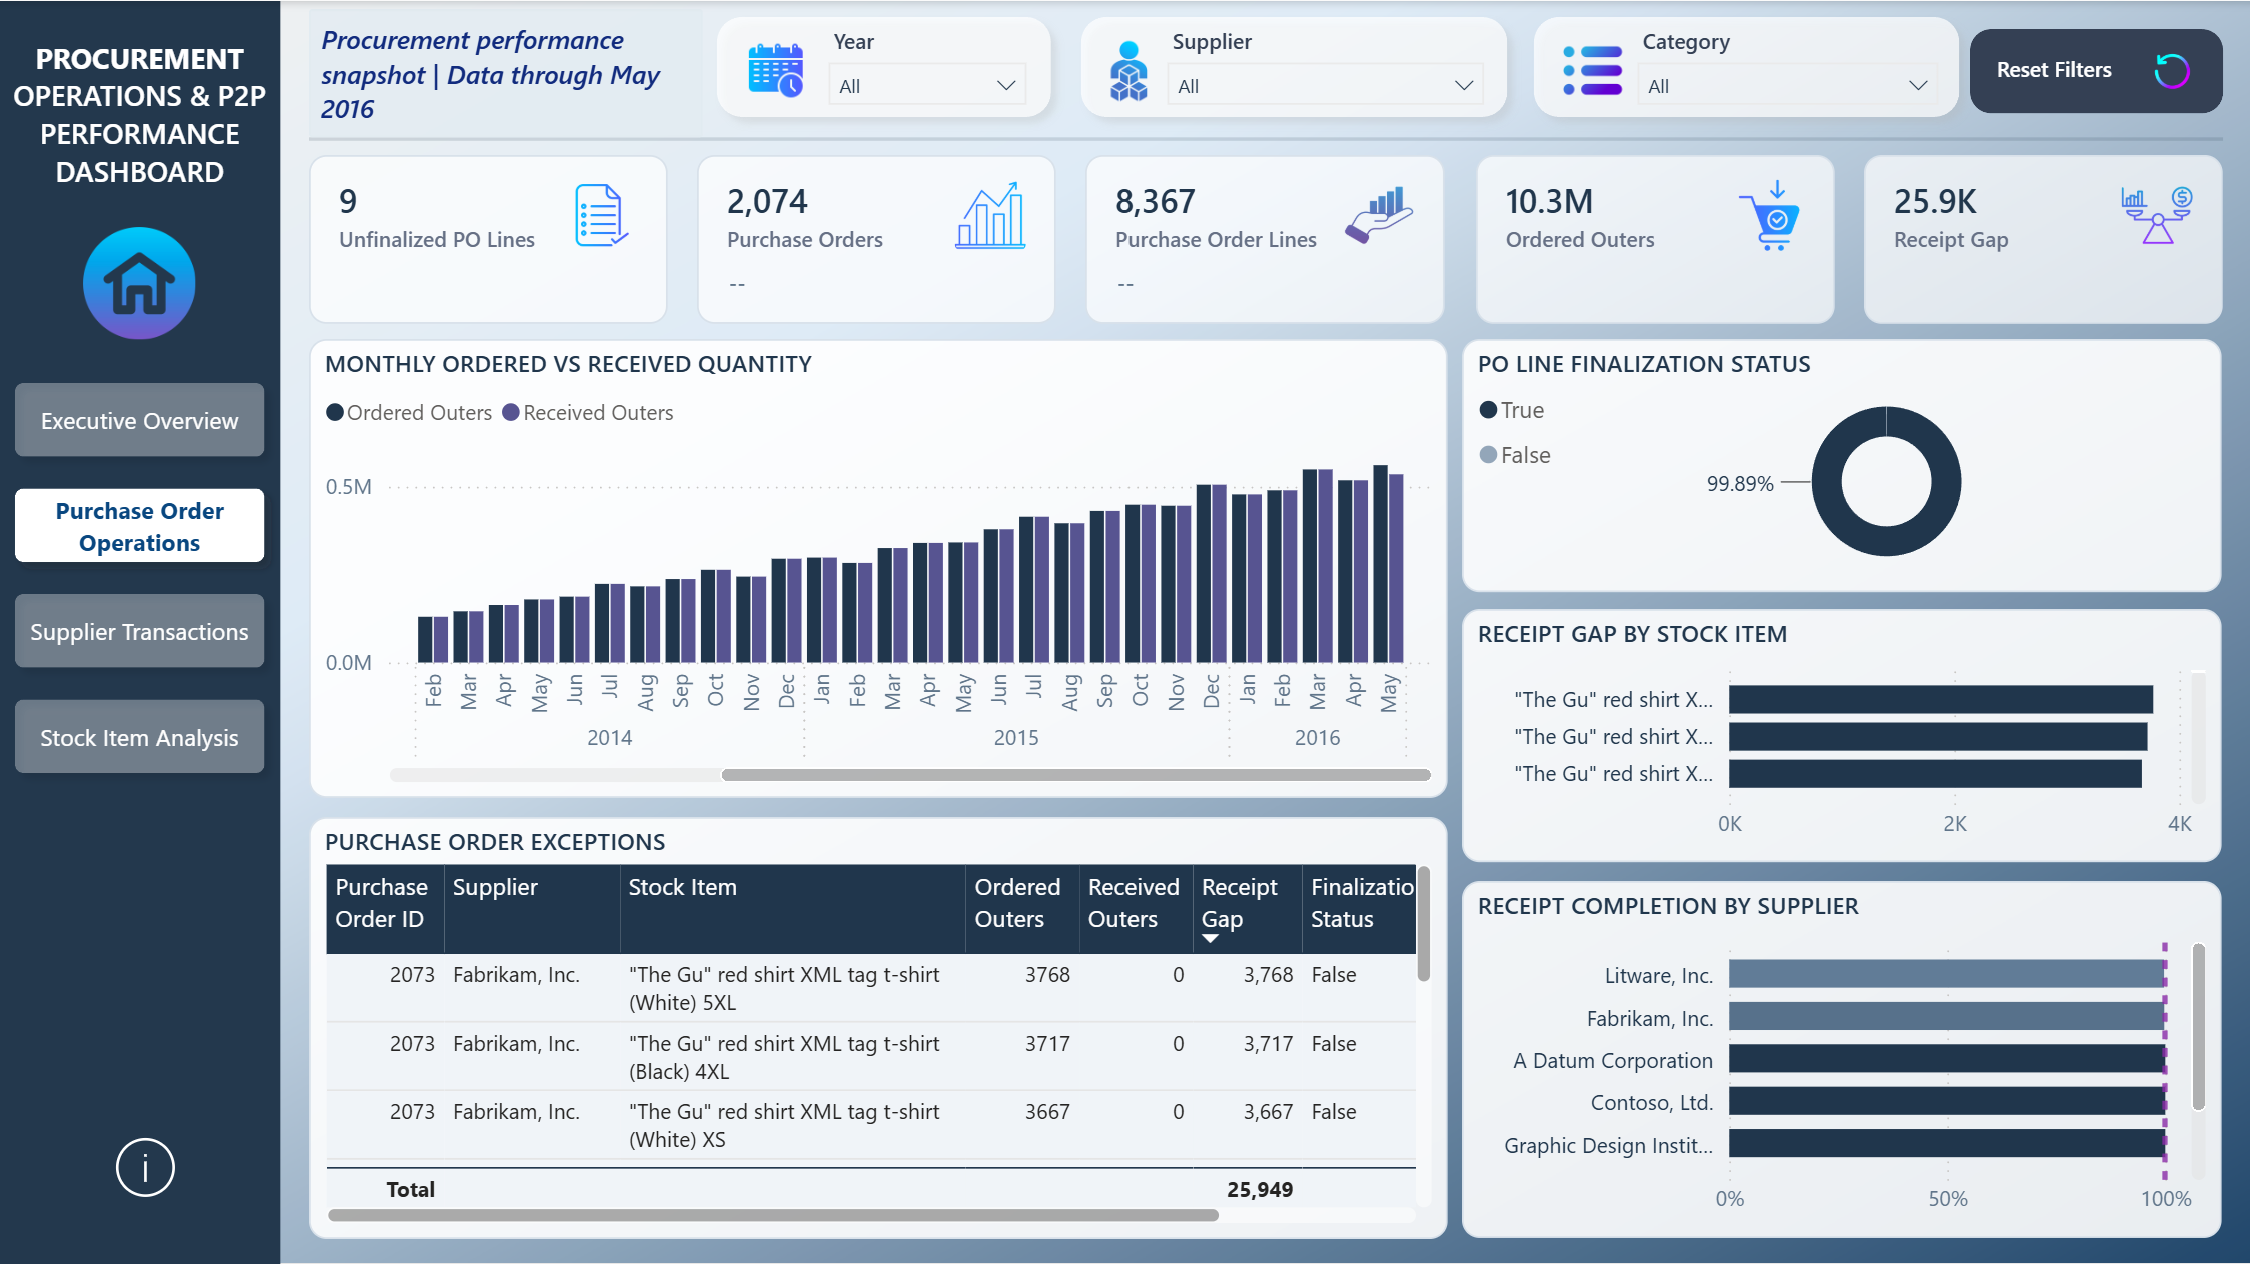

What the dashboard file says about the page in this screenshot:
{"tool":"powerbi","page":{"name":"Purchase Order Operations","canvas":[1280,720],"ordinal":1},"visuals":[{"type":"shape","box":[0,0,160,720],"z":0},{"type":"shape","box":[399.7,0,208,75],"z":0,"group":"g3"},{"type":"shape","box":[605.7,0,260,75],"z":0,"group":"g1"},{"type":"shape","box":[863.7,0,260,75],"z":0,"group":"g2"},{"type":"shape","box":[1120,16,144,48],"z":0,"group":"g5"},{"type":"slicer","title":"Year","fields":{"Values":["DimDate.Calendar Year"]},"box":[461.7,25,132.4,40],"z":1000,"group":"g3"},{"type":"slicer","title":"Year","fields":{"Values":["DimSupplier.Supplier"]},"box":[653.7,25,200,40],"z":1000,"group":"g1"},{"type":"slicer","title":"Year","fields":{"Values":["DimSupplier.Category"]},"box":[921.7,25,191,48],"z":1000,"group":"g2"},{"type":"cardVisual","fields":{"Data":["__Measures.Unfinalized PO Line Count"]},"box":[176,88,204,96],"z":1000},{"type":"image","box":[888.7,4,35,70],"z":2000,"group":"g2"},{"type":"image","box":[424.7,5,35,70],"z":2000,"group":"g3"},{"type":"image","box":[623.7,5,35,70],"z":2000,"group":"g1"},{"type":"cardVisual","fields":{"Data":["__Measures.PO Line Count"]},"box":[618,88,204,96],"z":2000},{"type":"textbox","box":[470.7,8,56.7,32],"z":3000,"group":"g3"},{"type":"textbox","box":[661.7,8,72,32],"z":3000,"group":"g1"},{"type":"textbox","box":[930.2,8,85.5,32],"z":3000,"group":"g2"},{"type":"cardVisual","fields":{"Data":["__Measures.Ordered Outers"]},"box":[839,88,204,96],"z":3000},{"type":"cardVisual","fields":{"Data":["__Measures.Receipt Gap"]},"box":[1060,88,204,96],"z":4000},{"type":"pageNavigator","box":[0,208,160,240],"z":5000},{"type":"image","box":[48,128,64,64],"z":6000},{"type":"textbox","box":[0,16,160,112],"z":7000},{"type":"group","id":"g1","title":"Group 1","box":[605.7,0,260,75],"z":8000},{"type":"group","id":"g2","title":"Group 1","box":[863.7,0,260,75],"z":9000},{"type":"group","id":"g3","title":"Group 2","box":[399.7,0,208,75],"z":10000},{"type":"cardVisual","fields":{"Data":["__Measures.PO Count"]},"box":[397,88,204,96],"z":11000},{"type":"group","id":"g4","title":"Group 4","box":[1120,16,144,48],"z":12000},{"type":"shape","box":[176,71,1088,16],"z":13000},{"type":"actionButton","box":[60,640,46,46],"z":14000},{"type":"textbox","box":[176,5,224,73],"z":15000},{"type":"clusteredBarChart","title":"RECEIPT GAP BY STOCK ITEM","fields":{"Category":["DimStockItem.Stock Item"],"Y":["__Measures.Receipt Gap"]},"box":[832,346,432,144],"z":16000},{"type":"clusteredColumnChart","title":"MONTHLY ORDERED VS RECEIVED QUANTITY","fields":{"Y":["__Measures.Ordered Outers","__Measures.Received Outers"],"Category":["DimDate.Calendar Year","DimDate.Short Month"]},"box":[176,192,647,261],"z":17000},{"type":"group","id":"g5","title":"Group 3","box":[1120,16,144,48],"z":18000,"group":"g4"},{"type":"clusteredBarChart","title":"RECEIPT COMPLETION BY SUPPLIER","fields":{"Category":["DimSupplier.Supplier"],"Y":["__Measures.Receipt Completion %"]},"box":[832,500,432,203],"z":18000},{"type":"donutChart","title":"PO LINE FINALIZATION STATUS","fields":{"Category":["FactPurchase.Is Order Finalized"],"Y":["__Measures.PO Line Count"]},"box":[832,192,432,144],"z":19000},{"type":"image","box":[1225,25,21,30],"z":20000,"group":"g4"},{"type":"tableEx","title":"PURCHASE ORDER EXCEPTIONS","fields":{"Values":["FactPurchase.WWI Purchase Order ID","DimSupplier.Supplier","DimStockItem.Stock Item","FactPurchase.Ordered Outers","FactPurchase.Received Outers","__Measures.Receipt Gap","FactPurchase.Is Order Finalized","FactPurchase.Date Key"]},"box":[176,464,647,240],"z":20000},{"type":"textbox","box":[1120,24,96,32],"z":21000,"group":"g5"}]}

Visuals, with their boxes in screenshot pixels (x1, y1, x2, y2), scaled from the page's 1280x720 canvas onto the 2250x1264 screenshot:
shape: (0,0,281,1263)
shape: (703,0,1068,132)
shape: (1065,0,1522,132)
shape: (1518,0,1975,132)
shape: (1969,28,2222,112)
"Year" slicer: (812,44,1044,114)
"Year" slicer: (1149,44,1501,114)
"Year" slicer: (1620,44,1956,128)
cardVisual - __Measures.Unfinalized PO Line Count: (309,154,668,323)
image: (1562,7,1624,130)
image: (747,9,808,132)
image: (1096,9,1158,132)
cardVisual - __Measures.PO Line Count: (1086,154,1445,323)
textbox: (827,14,927,70)
textbox: (1163,14,1290,70)
textbox: (1635,14,1785,70)
cardVisual - __Measures.Ordered Outers: (1475,154,1833,323)
cardVisual - __Measures.Receipt Gap: (1863,154,2222,323)
pageNavigator: (0,365,281,786)
image: (84,225,197,337)
textbox: (0,28,281,225)
"Group 1" group: (1065,0,1522,132)
"Group 1" group: (1518,0,1975,132)
"Group 2" group: (703,0,1068,132)
cardVisual - __Measures.PO Count: (698,154,1056,323)
"Group 4" group: (1969,28,2222,112)
shape: (309,125,2222,153)
actionButton: (105,1124,186,1204)
textbox: (309,9,703,137)
"RECEIPT GAP BY STOCK ITEM" clusteredBarChart: (1462,607,2222,860)
"MONTHLY ORDERED VS RECEIVED QUANTITY" clusteredColumnChart: (309,337,1447,795)
"Group 3" group: (1969,28,2222,112)
"RECEIPT COMPLETION BY SUPPLIER" clusteredBarChart: (1462,878,2222,1234)
"PO LINE FINALIZATION STATUS" donutChart: (1462,337,2222,590)
image: (2153,44,2190,97)
"PURCHASE ORDER EXCEPTIONS" tableEx: (309,815,1447,1236)
textbox: (1969,42,2138,98)
